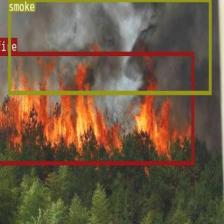fire: (0, 51, 194, 164)
smoke: (7, 0, 211, 94)
